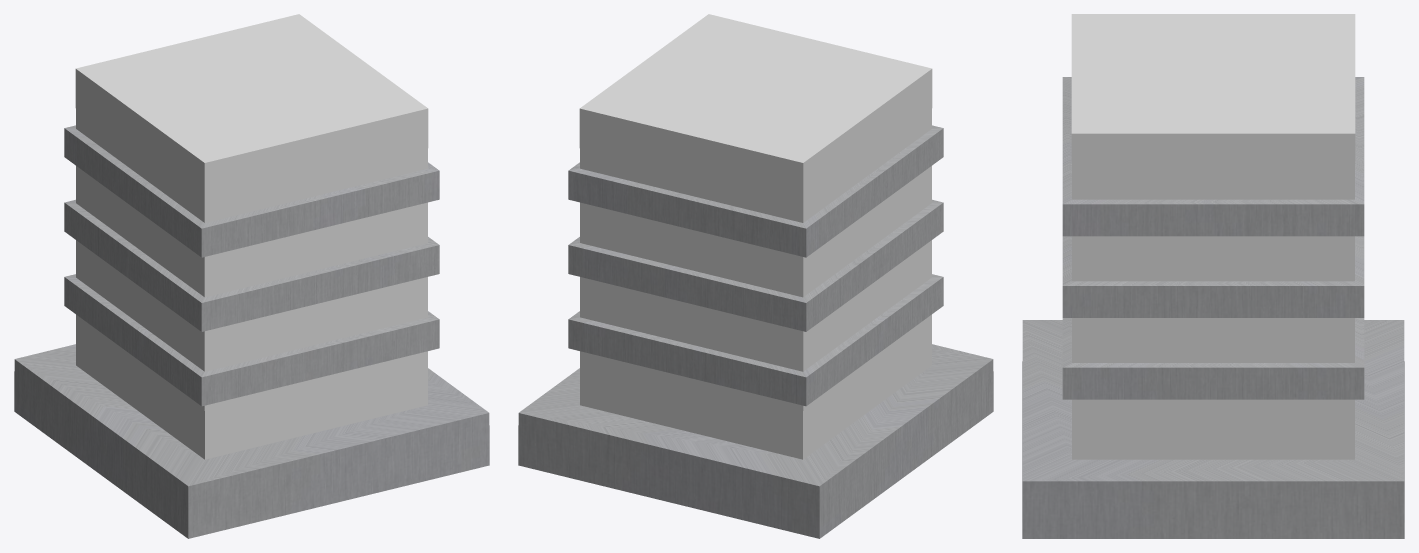
The model's file is tube chute.glb.
The picture shows the model from 3 angles, left to right: view 1: azimuth 30°, elevation 25°; view 2: azimuth 150°, elevation 25°; view 3: azimuth 270°, elevation 25°; orthographic projection. The views are drawn at different scales.
Visible parts, largest first — view 1: Cube; view 2: Cube; view 3: Cube.
Boxes of the visible parts, x1,y1,x2,y2 form: Cube: (14,14,489,538); Cube: (518,14,993,538); Cube: (1022,14,1404,538).
Bounding box in the file's own units: 5.42 × 6.02 × 5.42.
Materials: 2 (1 with a texture image).
